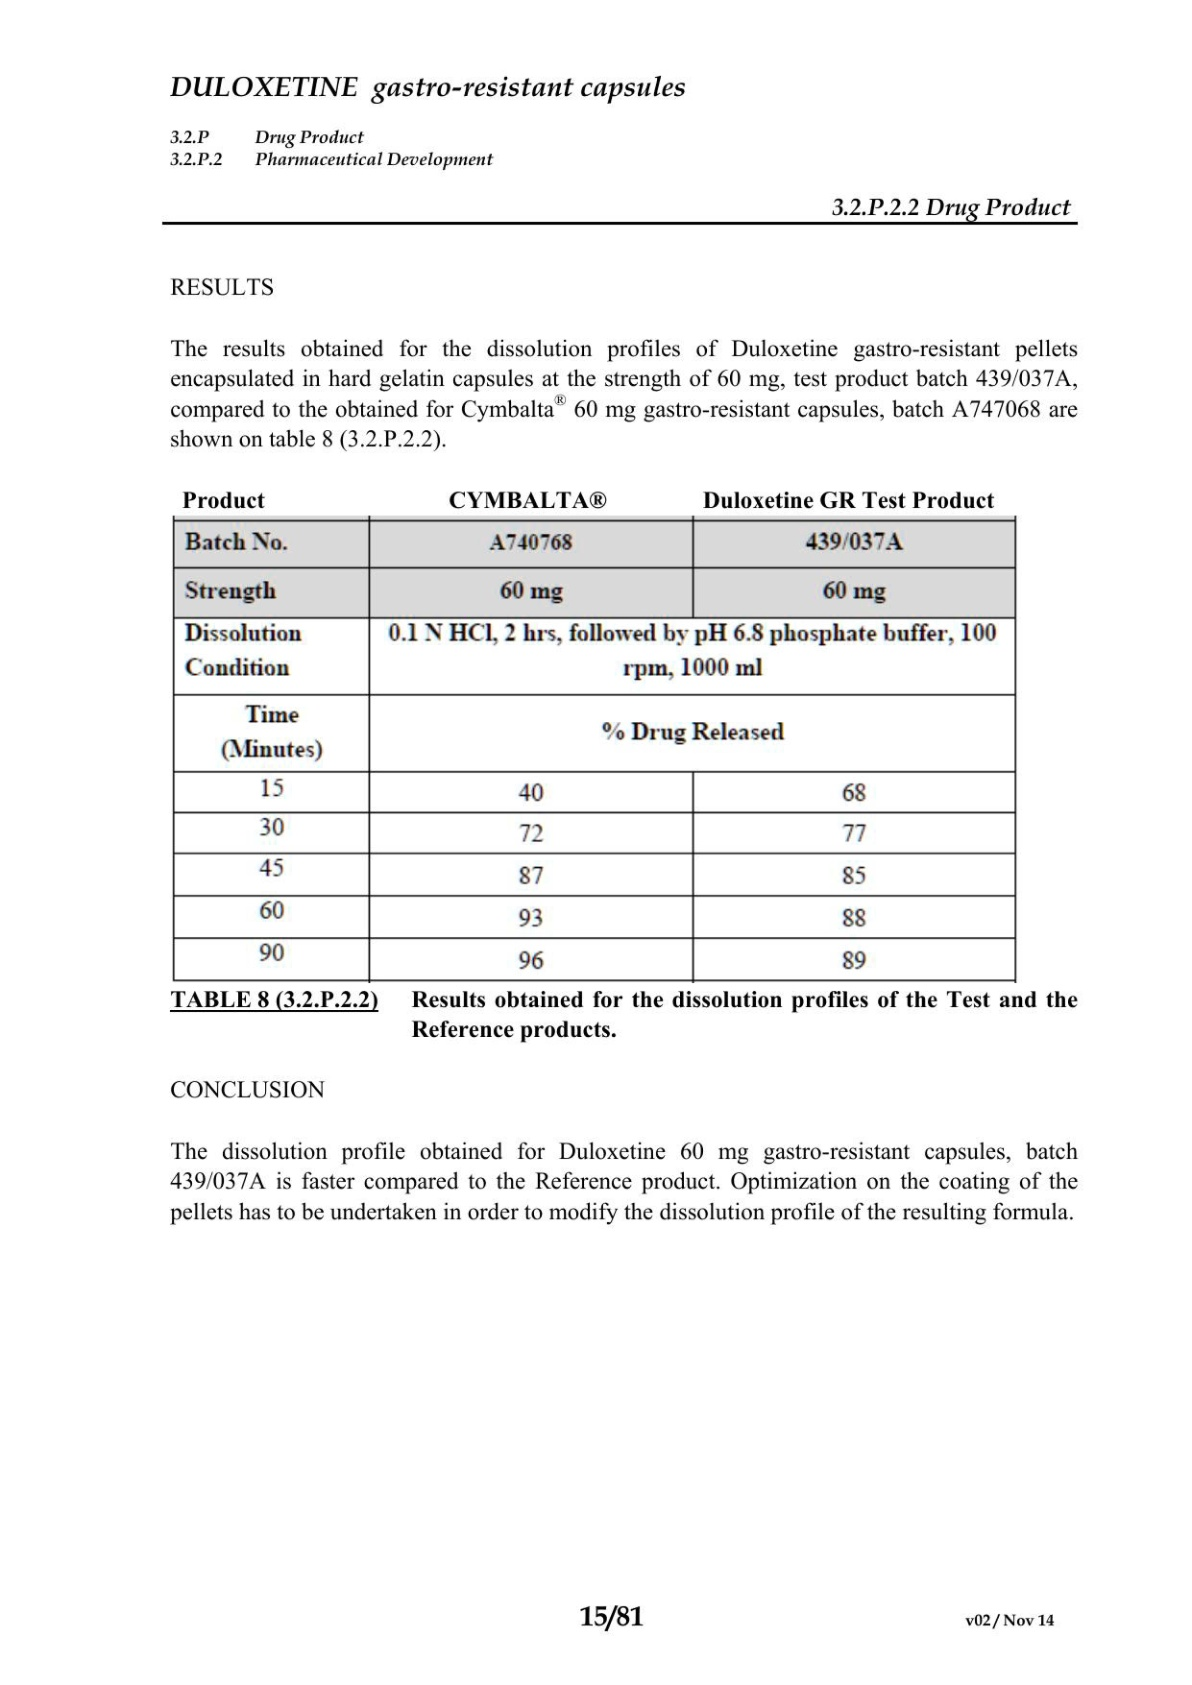merged_cells: (172, 516, 1018, 984)
